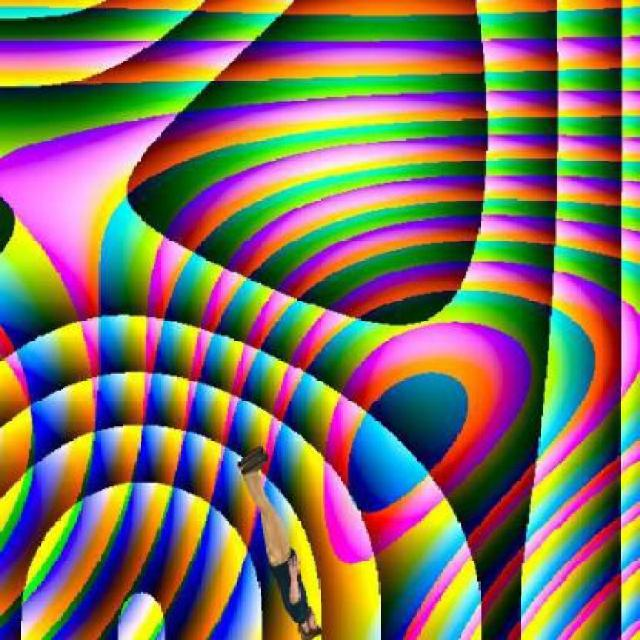Person: (238, 442, 325, 640)
